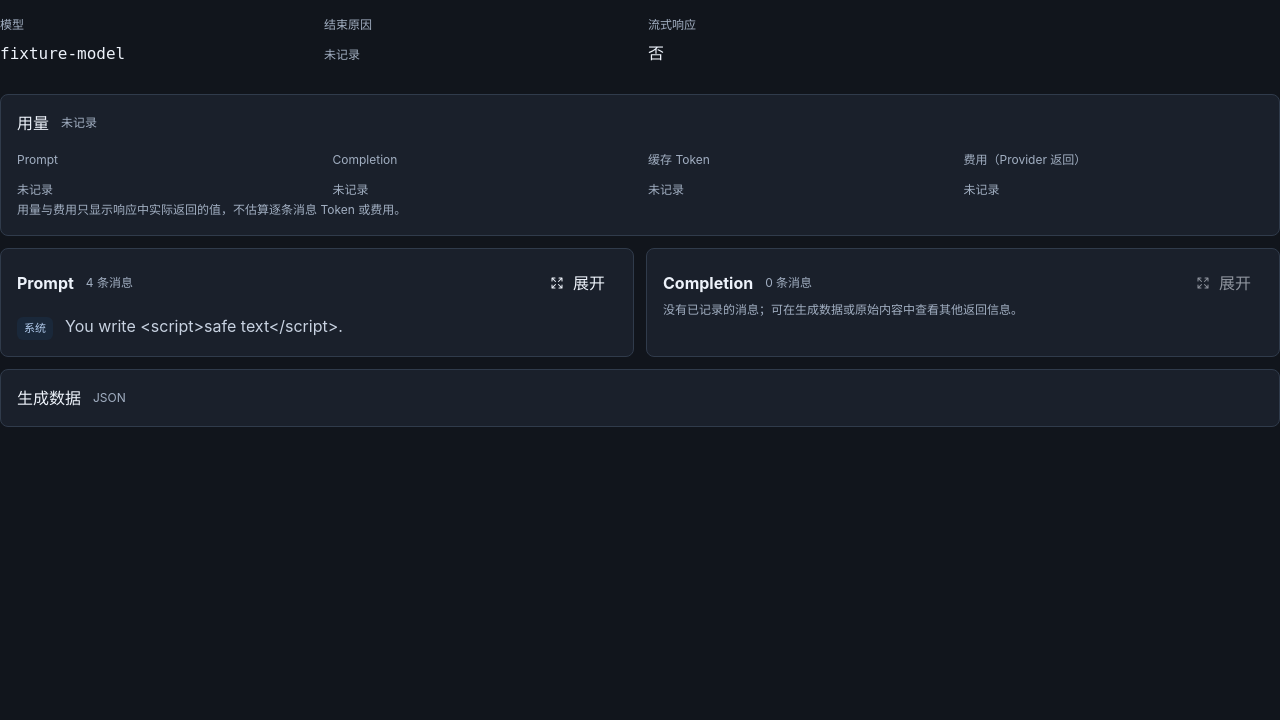
Test: FormattedCallExchange › reports copy failure and absent response without faking completion
Expected: the button with aria-label "展开 Completion" is disabled, 1183,265 -> 1263,301
Expected: the text "未记录" below "结束原因" is shown, 324,48 -> 360,62
Click the button with aria-label "展开 Prompt".
click(577, 283)  # box 537,265 -> 617,301
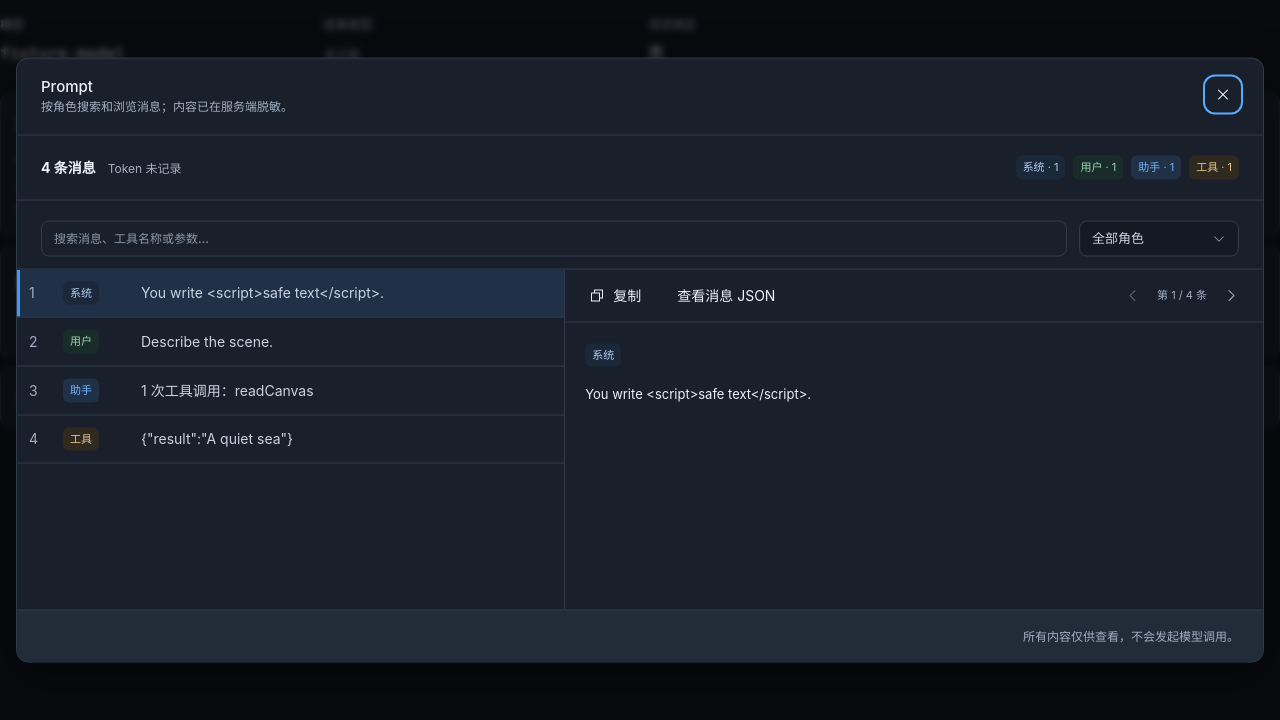
Click the button "复制".
click(615, 295)  # box 577,277 -> 653,313
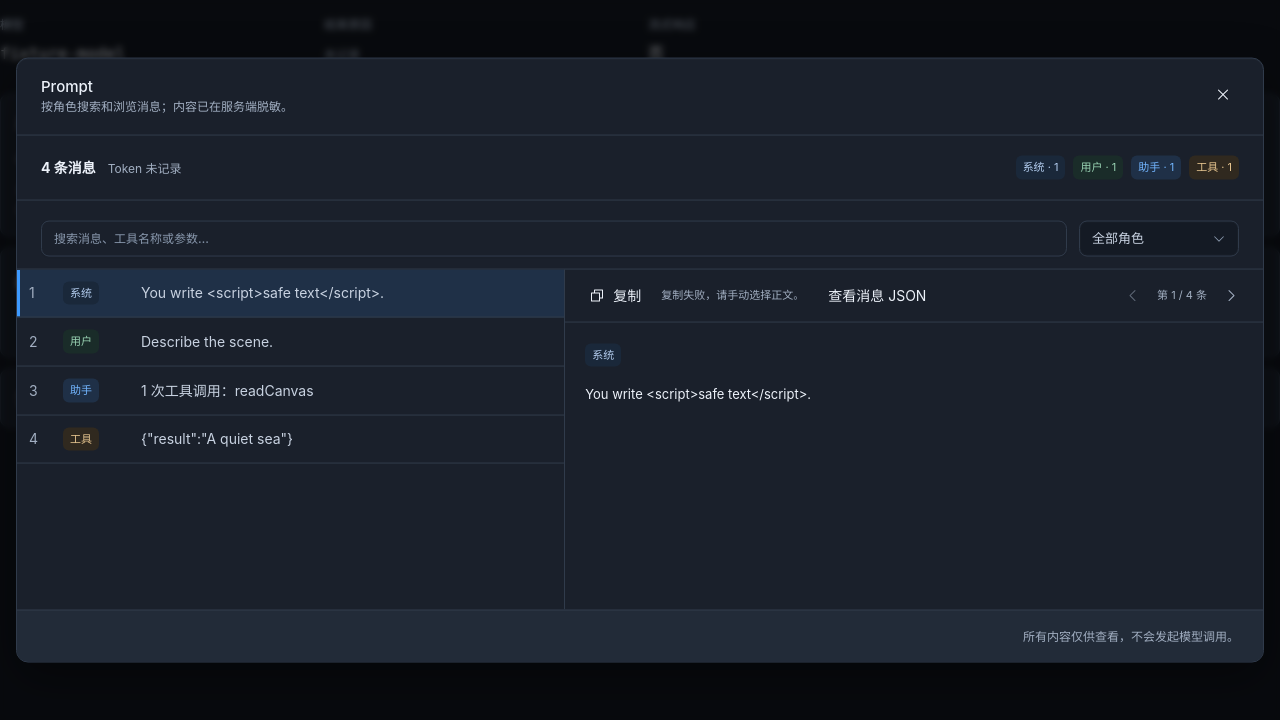
Expected: the message shows "复制失败", 661,288 -> 804,302
